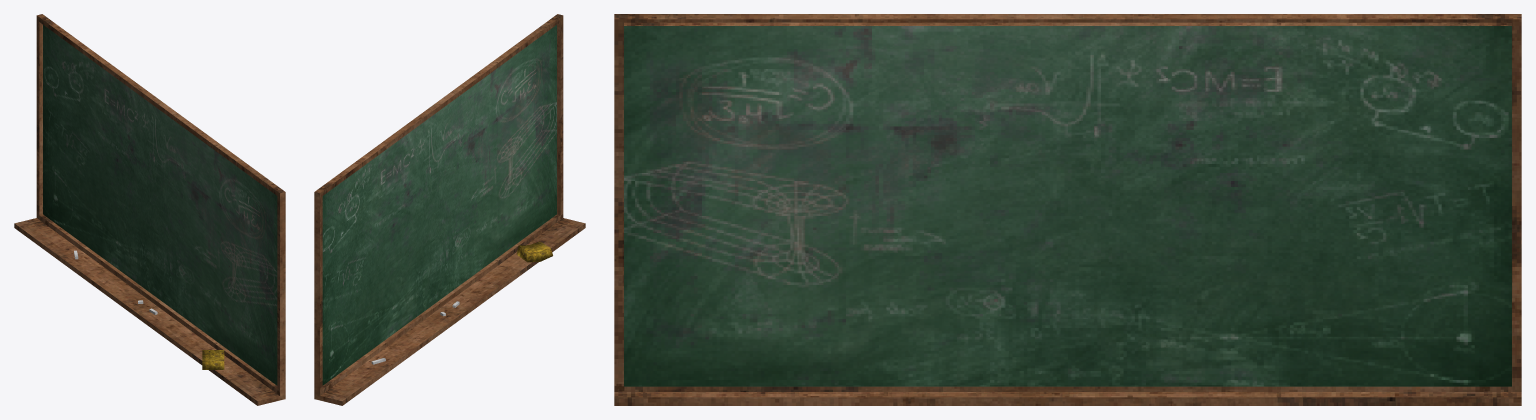
File: _Chalkboard_1.FBX
3 views of the same model, side by side, from view 1: azimuth 30°, elevation 25°; view 2: azimuth 150°, elevation 25°; view 3: azimuth 270°, elevation 25° (orthographic). The views are drawn at different scales.
Visible parts, largest first — view 1: _Chalkboard_1; view 2: _Chalkboard_1; view 3: _Chalkboard_1.
Part boxes in pixels (<box>): _Chalkboard_1: <box>14,14,285,405</box>; _Chalkboard_1: <box>314,14,585,405</box>; _Chalkboard_1: <box>614,14,1521,405</box>.
Size of the model in its own units: 22.11 by 111 by 236.
Materials: 4 (4 with a texture image).
